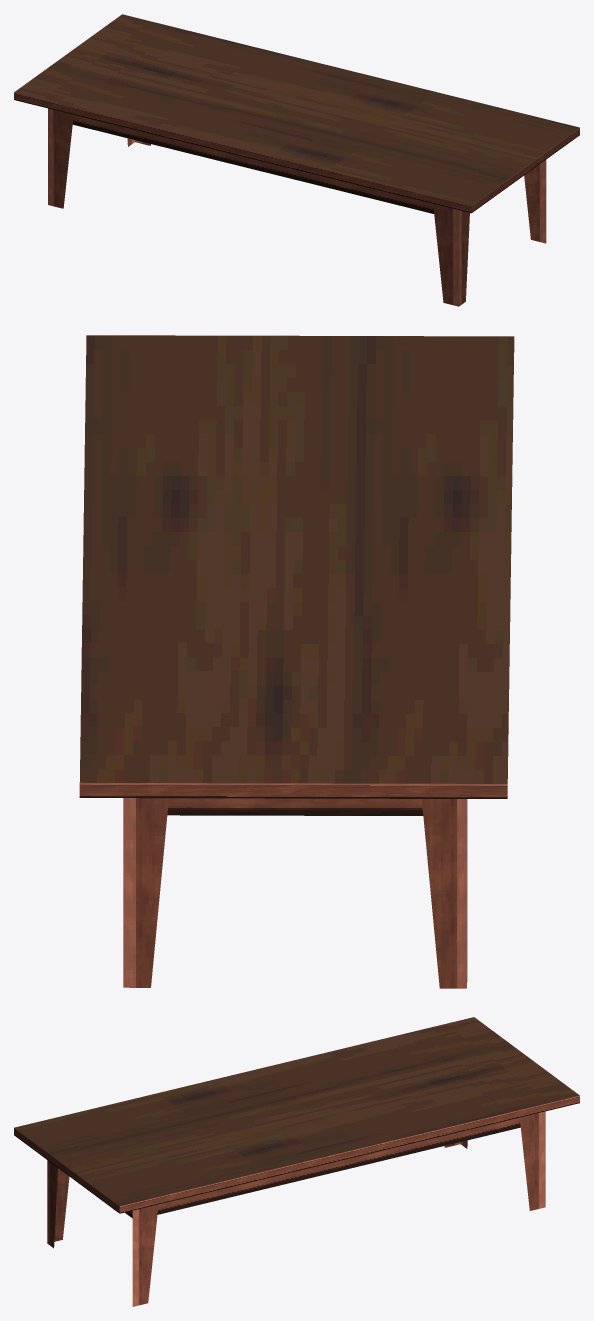
The model's file is archives_wooden_table_1.glb.
The picture shows the model from 3 angles, top to bottom: view 1: azimuth 30°, elevation 25°; view 2: azimuth 150°, elevation 25°; view 3: azimuth 270°, elevation 25°; orthographic projection. The views are drawn at different scales.
Parts seen in each view (by area): view 1: Object; view 2: Object; view 3: Object.
Part boxes in pixels (x1=…): Object: x1=14, y1=14, x2=579, y2=306; Object: x1=79, y1=335, x2=514, y2=988; Object: x1=14, y1=1017, x2=579, y2=1306.
Size of the model in its own units: 3.18 by 0.8928 by 4.02.
Materials: 4 (4 with a texture image).
